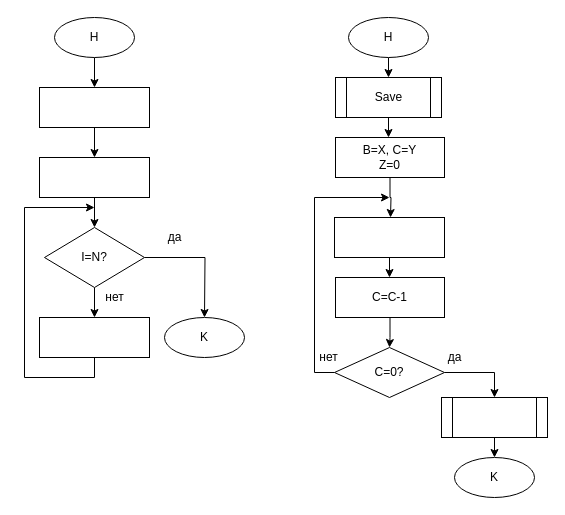
The diagram is 565 pixels wide and 515 high, and some of its shapes have lost their labels. Each missing label, with the box of its shape:
i=i+1: (38, 316, 150, 358)
Restore: (440, 396, 548, 438)
S=0 i=1: (38, 86, 150, 128)
S=S+T[i]: (38, 156, 150, 198)
Z=Z+B: (334, 216, 444, 258)
